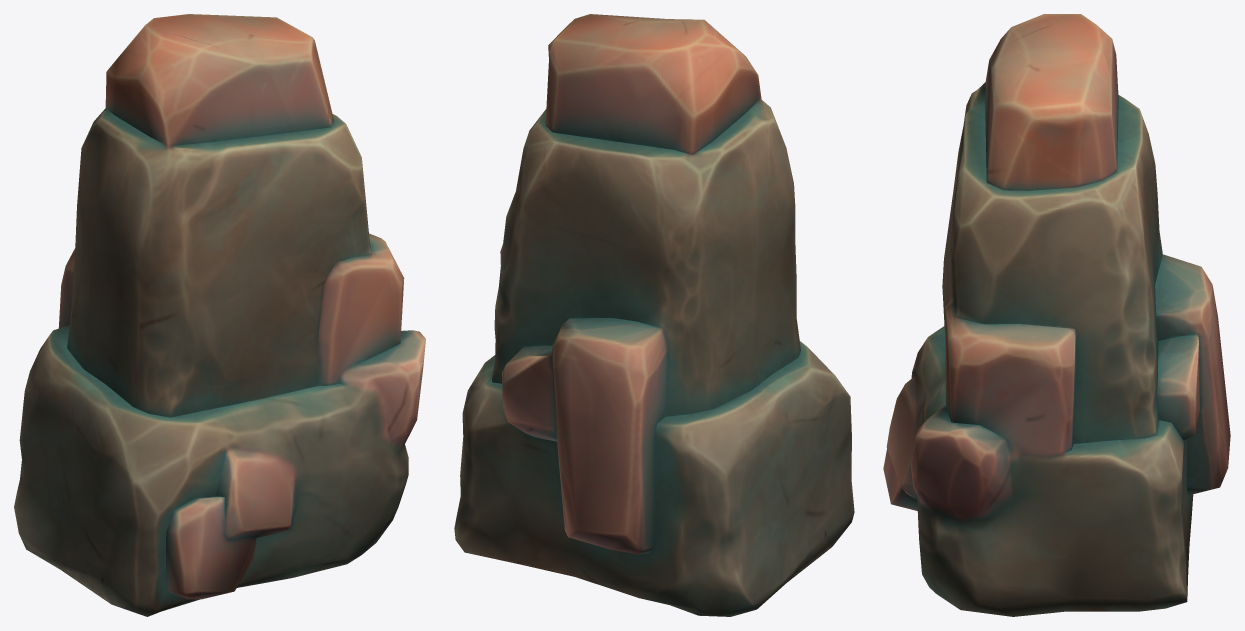
File: SM_Gem_Copper_003.fbx
3 renders of one model, left to right at view 1: azimuth 30°, elevation 25°; view 2: azimuth 150°, elevation 25°; view 3: azimuth 270°, elevation 25°, orthographic.
Parts seen in each view (by area): view 1: SM_Gem_Copper_003; view 2: SM_Gem_Copper_003; view 3: SM_Gem_Copper_003.
Boxes of the visible parts, box(x1,y1,x2,y2) form: SM_Gem_Copper_003: box(14, 14, 425, 616); SM_Gem_Copper_003: box(454, 14, 854, 616); SM_Gem_Copper_003: box(883, 14, 1230, 616).
Bounding box in the file's own units: 58.3 × 92.69 × 55.98.
